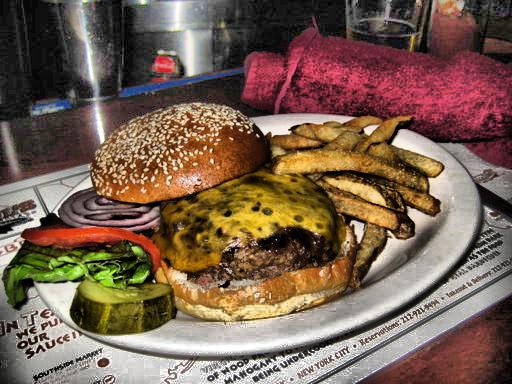burger: (99, 96, 354, 310)
